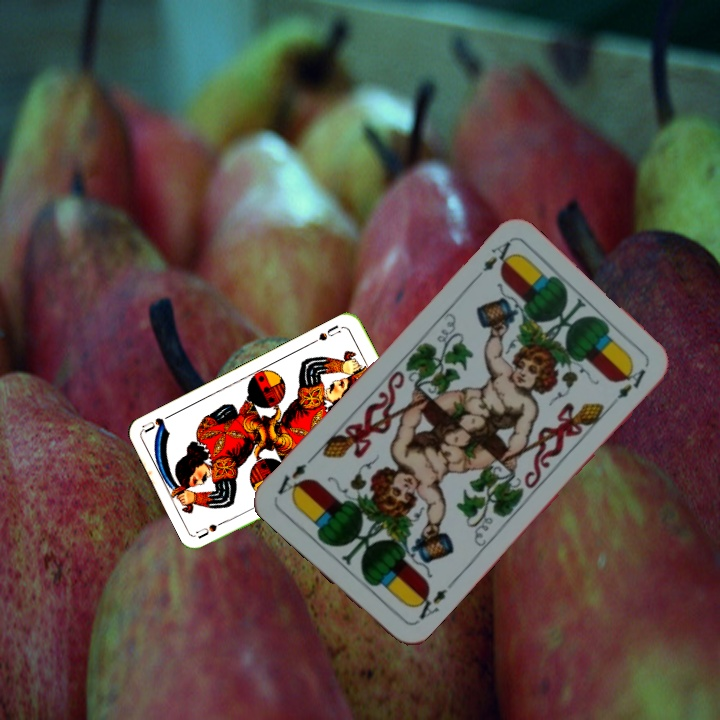EA: (469, 237, 519, 284), (408, 583, 451, 627)
SU: (193, 515, 233, 541), (308, 321, 343, 346)
